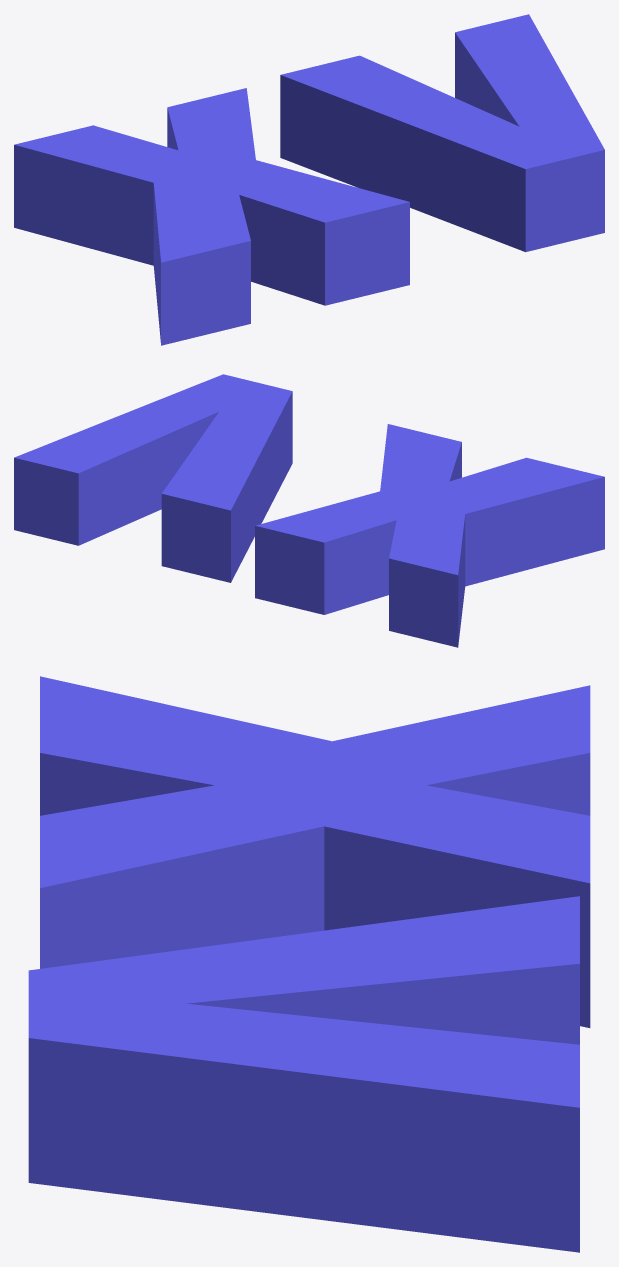
3 renders of one model, top to bottom at view 1: azimuth 30°, elevation 25°; view 2: azimuth 150°, elevation 25°; view 3: azimuth 270°, elevation 25°, orthographic. The views are drawn at different scales.
Visible parts, largest first — view 1: X1, V_1_1; view 2: X1, V_1_1; view 3: V_1_1, X1.
Part boxes in pixels (x1,y1,x2,y2): X1: [14, 88, 409, 345]; V_1_1: [280, 14, 604, 252]; X1: [255, 424, 604, 647]; V_1_1: [14, 374, 292, 582]; V_1_1: [28, 896, 579, 1252]; X1: [40, 676, 590, 1027].
Size of the model in its own units: 0.9881 by 0.1639 by 0.527.
